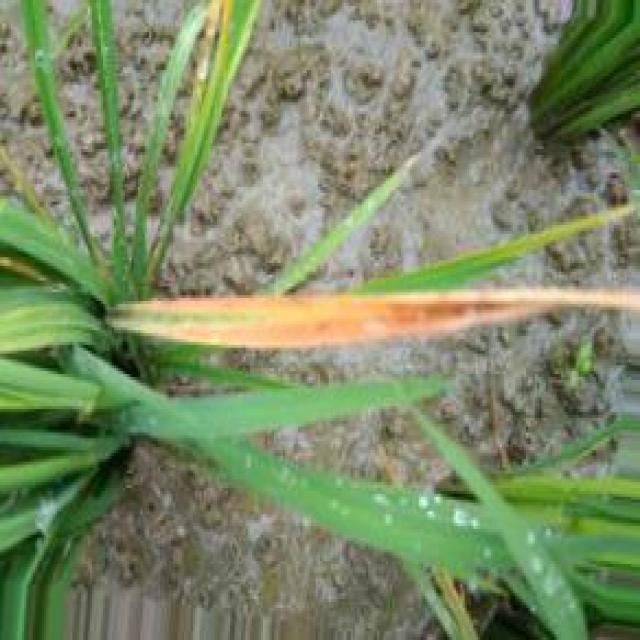Rice Tungro: (110, 289, 640, 349)
